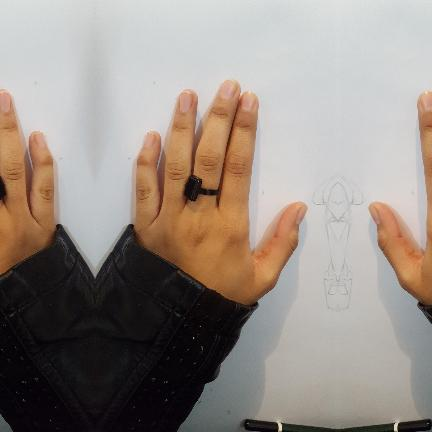Nail: (220, 79, 237, 98), (240, 91, 256, 111), (179, 91, 193, 112), (418, 91, 432, 111), (295, 206, 307, 226), (367, 206, 379, 226), (0, 91, 9, 112), (144, 132, 155, 147), (33, 132, 44, 147)
